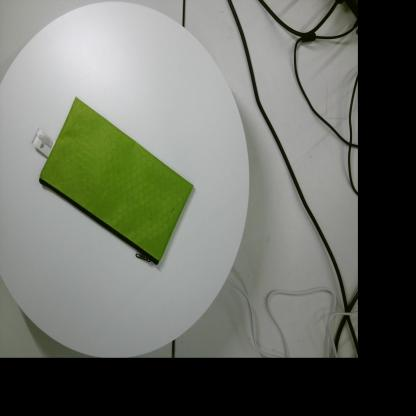Stationery: (31, 96, 194, 265)
